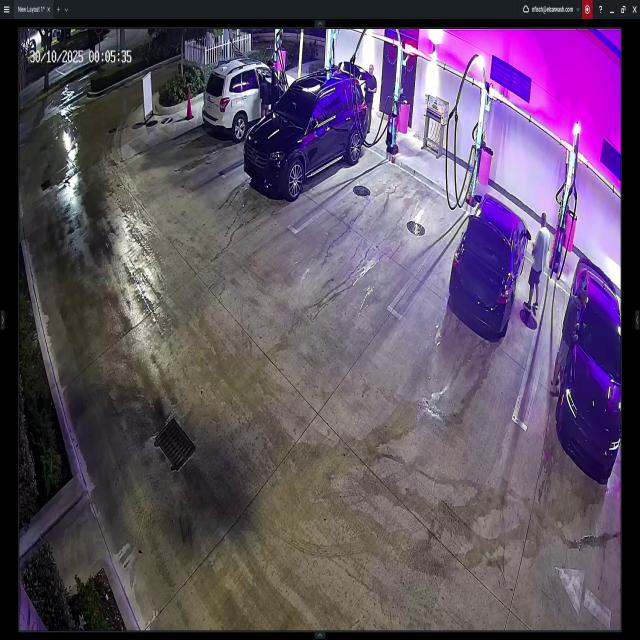Car: (244, 68, 368, 197), (556, 255, 620, 470), (449, 192, 531, 339), (203, 60, 295, 139)
